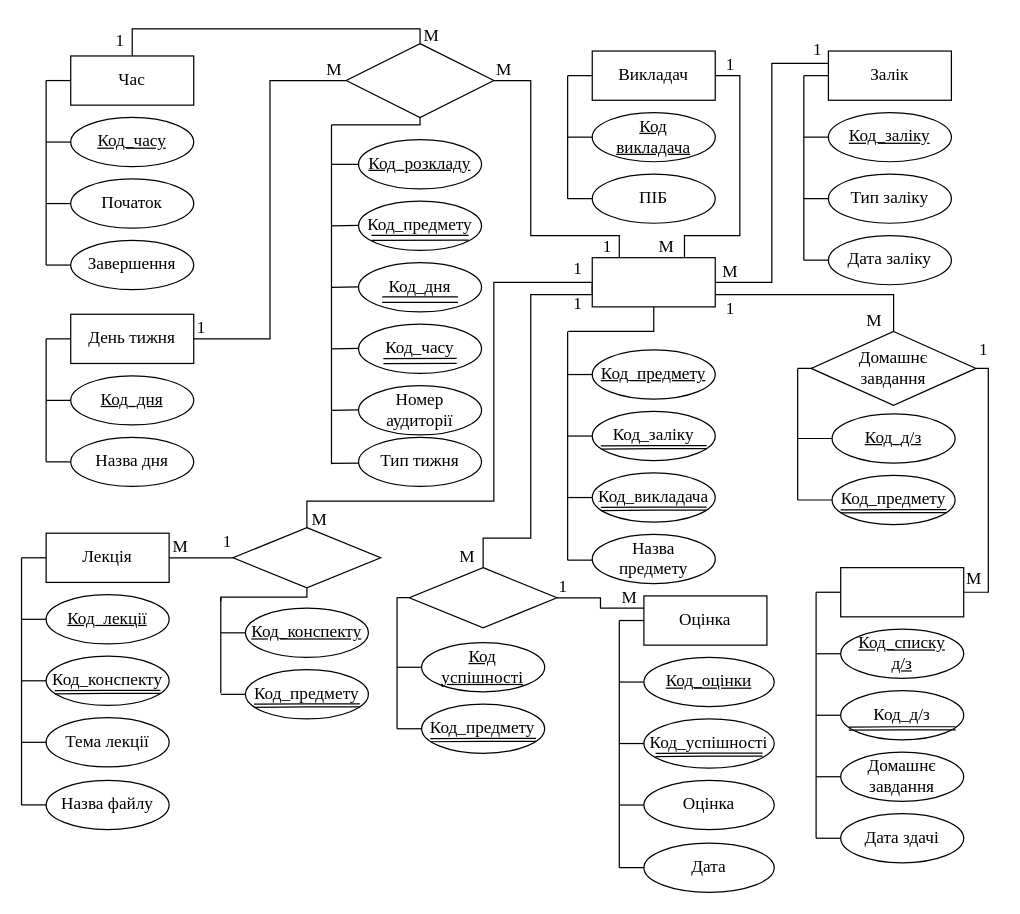
The diagram is 1020 pixels wide and 914 high, and some of its shapes have lost their labels. Each missing label, with the centre of its shape:
Конспект: the point at 306,557
Предмет: the point at 653,281
Розклад: the point at 419,79
Список д/з: the point at 901,591
Успішність: the point at 482,597
